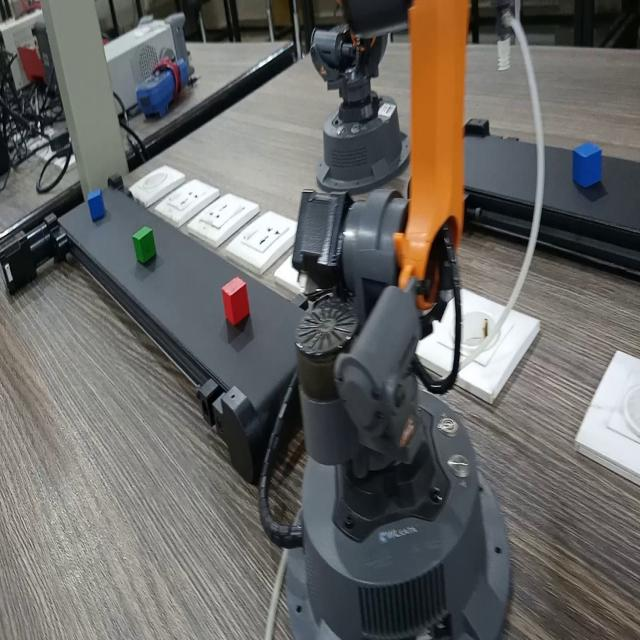cube: (568, 136, 609, 192), (220, 266, 256, 328), (130, 217, 159, 266), (78, 180, 108, 224)
